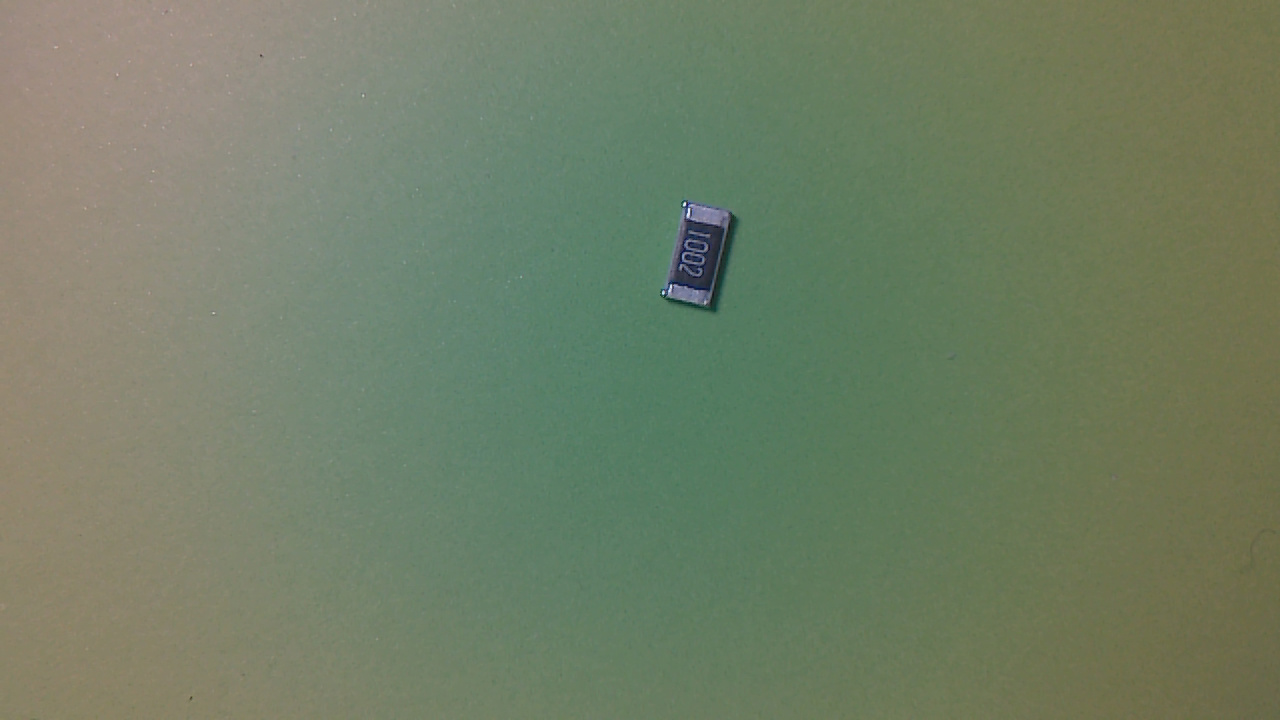Resistor: (664, 203, 745, 322)
